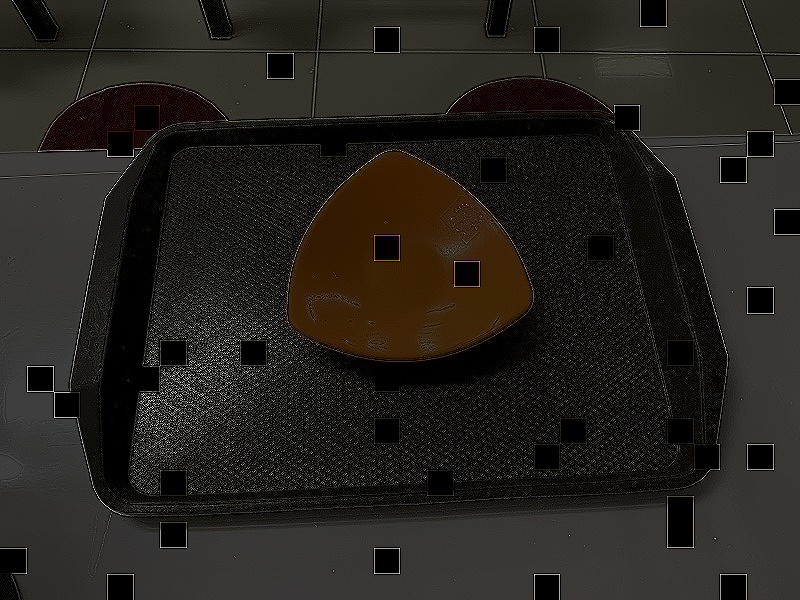dish11: (282, 148, 540, 365)
